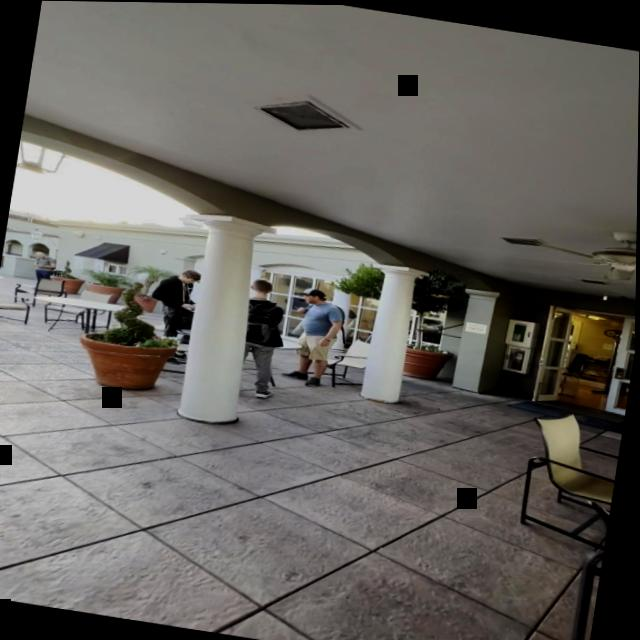NO-Mask: (304, 291, 324, 305), (188, 274, 201, 284)
